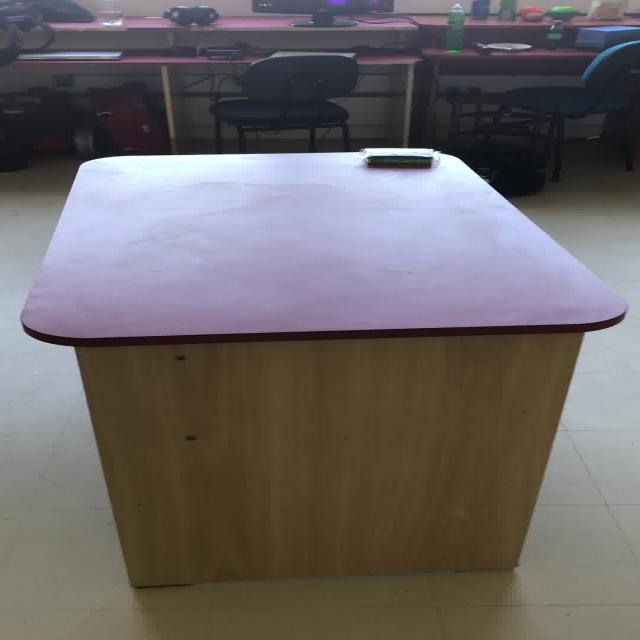sponge: (358, 147, 437, 166)
